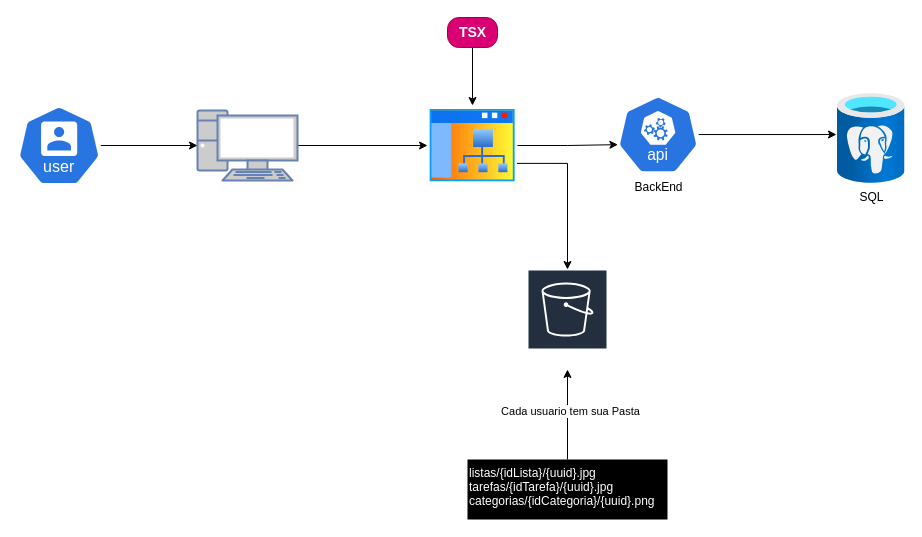
Image size: 922x537. Some labels were removed from this diagram. Each missing label, with the centre of its shape:
Amazon S3: the point at 567,319
FRONT: the point at 472,145
